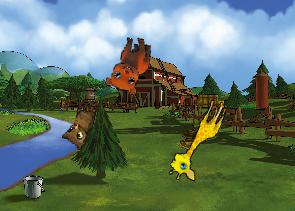bear: (103, 32, 153, 96)
giraffe: (164, 92, 230, 186)
owl: (59, 99, 97, 151)
